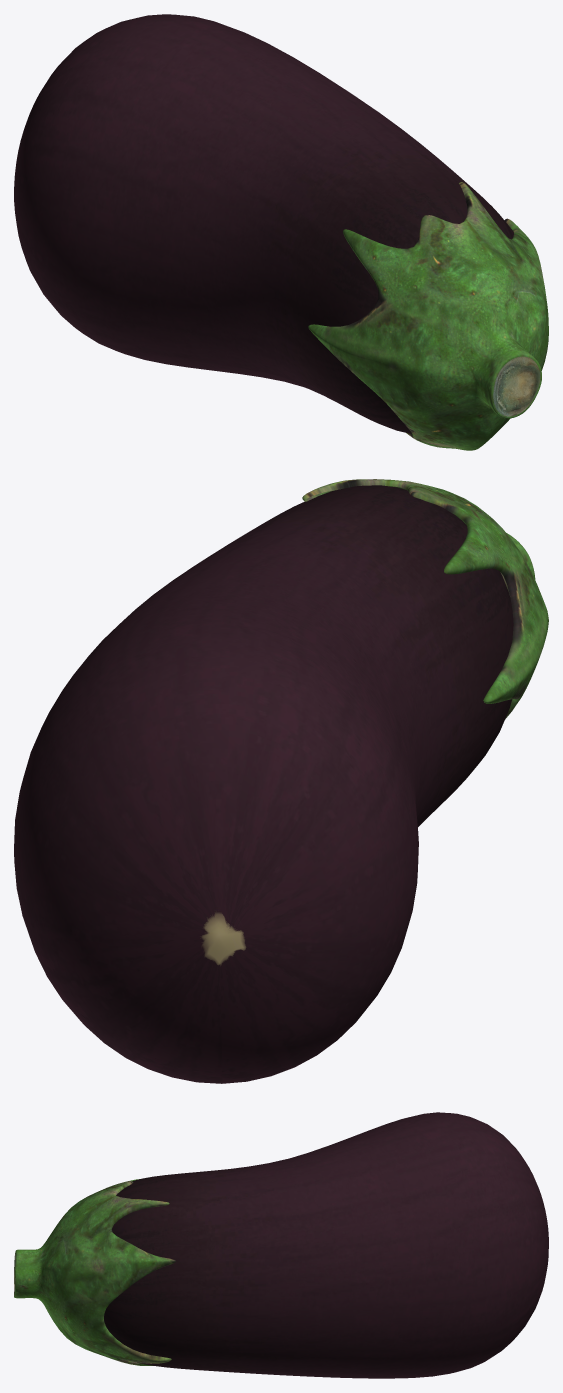
The model's file is Eggplant.obj.
3 renders of one model, top to bottom at view 1: azimuth 30°, elevation 25°; view 2: azimuth 150°, elevation 25°; view 3: azimuth 270°, elevation 25°, orthographic. The views are drawn at different scales.
Visible parts, largest first — view 1: Eggplant_01; view 2: Eggplant_01; view 3: Eggplant_01.
Part boxes in pixels (bbox=[...]): Eggplant_01: bbox=[14, 14, 548, 450]; Eggplant_01: bbox=[14, 479, 548, 1083]; Eggplant_01: bbox=[14, 1112, 548, 1378].
Size of the model in its own units: 1 by 1 by 2.
Materials: 2 (2 with a texture image).
